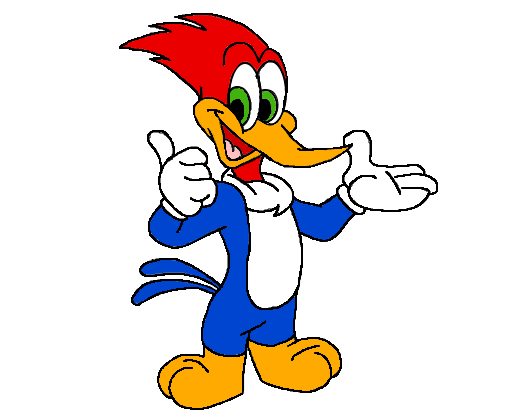picapau: (93, 5, 441, 416)
